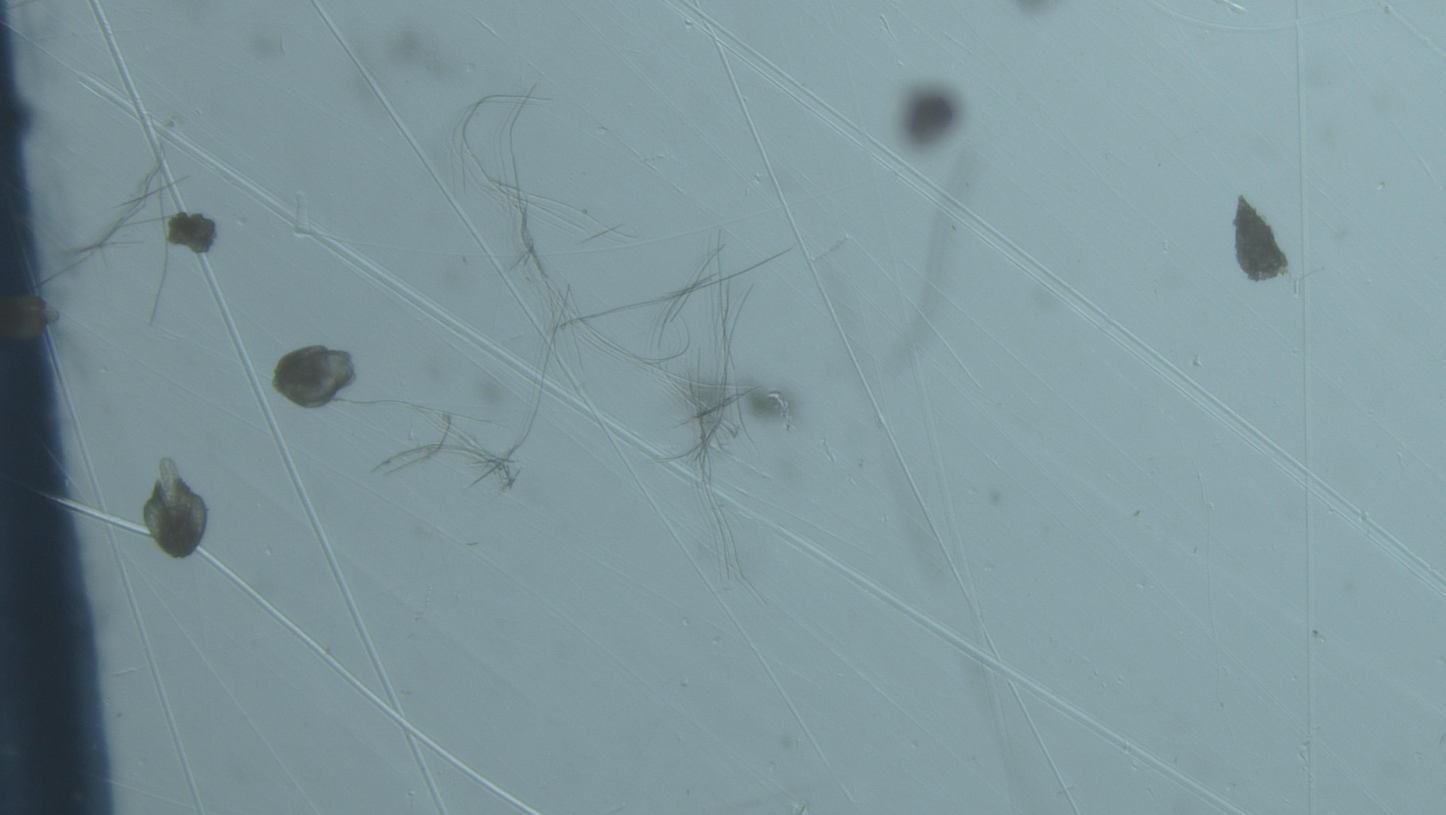live: (143, 458, 208, 558), (272, 345, 354, 408)
